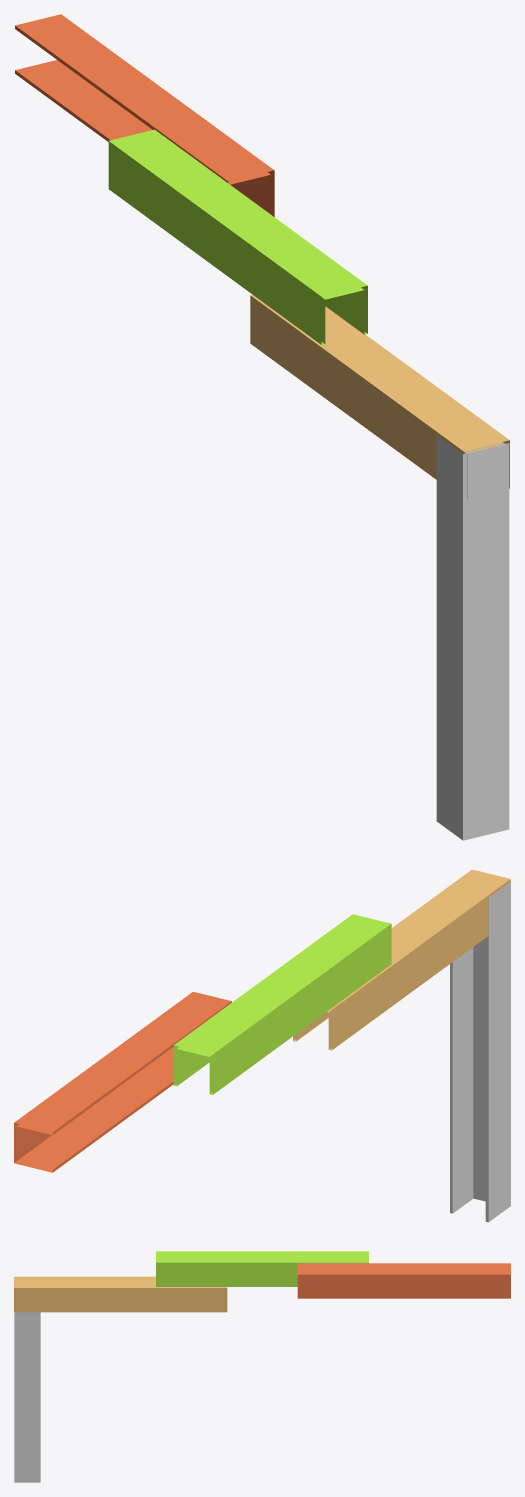
The model's file is robot_rhino4.dae.
The picture shows the model from 3 angles, top to bottom: view 1: azimuth 30°, elevation 25°; view 2: azimuth 150°, elevation 25°; view 3: azimuth 270°, elevation 25°; orthographic projection. The views are drawn at different scales.
Parts seen in each view (by area): view 1: a9ae589b-d019-45cb-81b2-2c3ad2b44515, b3e29e84-91b9-41e1-afa5-186ce9336627, c25fc8f4-9b3d-453a-97a2-4b5186b7a688, a0d714b3-5531-4e4d-bcd3-cac2246da2c0; view 2: a9ae589b-d019-45cb-81b2-2c3ad2b44515, b3e29e84-91b9-41e1-afa5-186ce9336627, a0d714b3-5531-4e4d-bcd3-cac2246da2c0, c25fc8f4-9b3d-453a-97a2-4b5186b7a688; view 3: a0d714b3-5531-4e4d-bcd3-cac2246da2c0, c25fc8f4-9b3d-453a-97a2-4b5186b7a688, b3e29e84-91b9-41e1-afa5-186ce9336627, a9ae589b-d019-45cb-81b2-2c3ad2b44515.
Boxes of the visible parts, <box> form: a9ae589b-d019-45cb-81b2-2c3ad2b44515: <box>436,435,509,840</box>; b3e29e84-91b9-41e1-afa5-186ce9336627: <box>108,129,367,344</box>; c25fc8f4-9b3d-453a-97a2-4b5186b7a688: <box>250,295,509,499</box>; a0d714b3-5531-4e4d-bcd3-cac2246da2c0: <box>15,14,274,216</box>; a9ae589b-d019-45cb-81b2-2c3ad2b44515: <box>450,881,510,1222</box>; b3e29e84-91b9-41e1-afa5-186ce9336627: <box>173,914,391,1095</box>; a0d714b3-5531-4e4d-bcd3-cac2246da2c0: <box>14,991,231,1172</box>; c25fc8f4-9b3d-453a-97a2-4b5186b7a688: <box>293,869,510,1050</box>; a0d714b3-5531-4e4d-bcd3-cac2246da2c0: <box>297,1263,510,1298</box>; c25fc8f4-9b3d-453a-97a2-4b5186b7a688: <box>14,1276,227,1312</box>; b3e29e84-91b9-41e1-afa5-186ce9336627: <box>156,1251,368,1286</box>; a9ae589b-d019-45cb-81b2-2c3ad2b44515: <box>14,1312,40,1482</box>.
Size of the model in its own units: 41.12 by 373 by 182.
